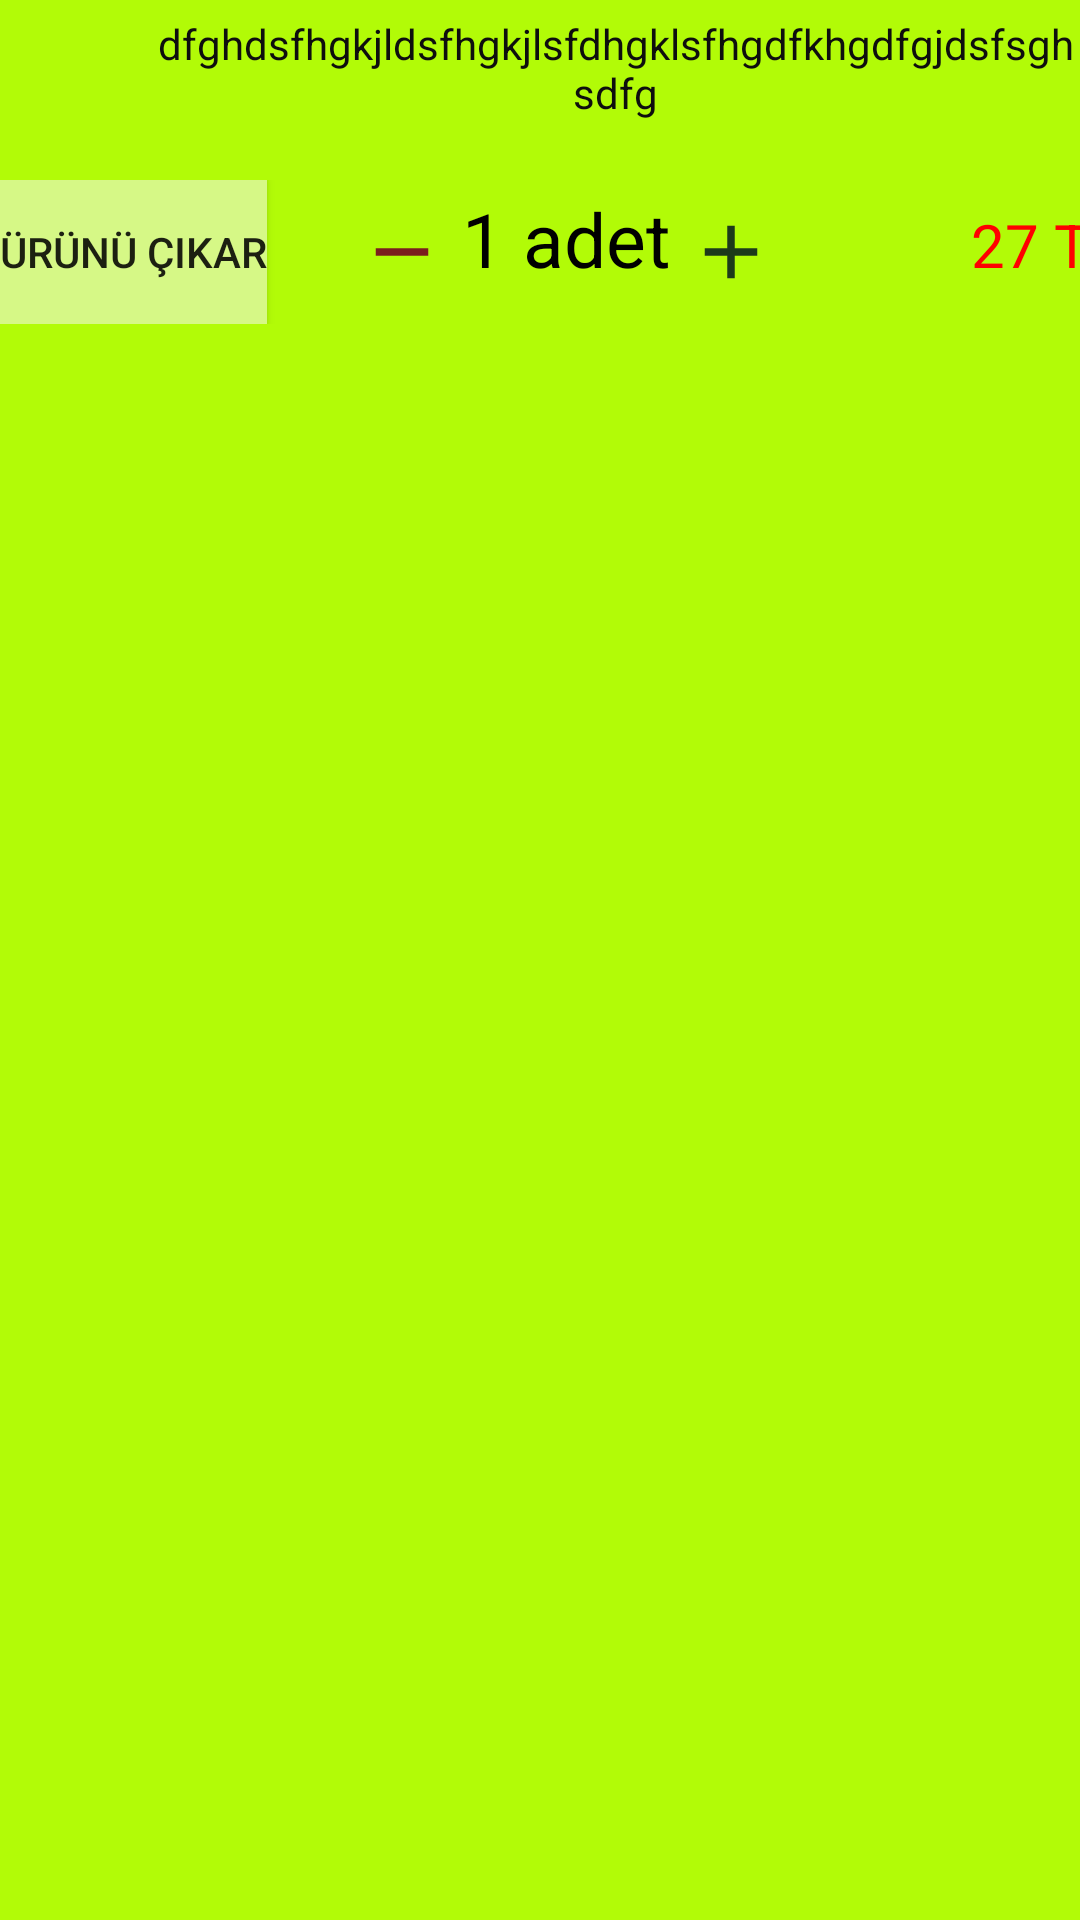

Screen size 1080w x 1920h. Icon name, then its box in pixels as bbox=[x1, y1, x2, y2]:
add: bbox=[704, 225, 758, 279]
